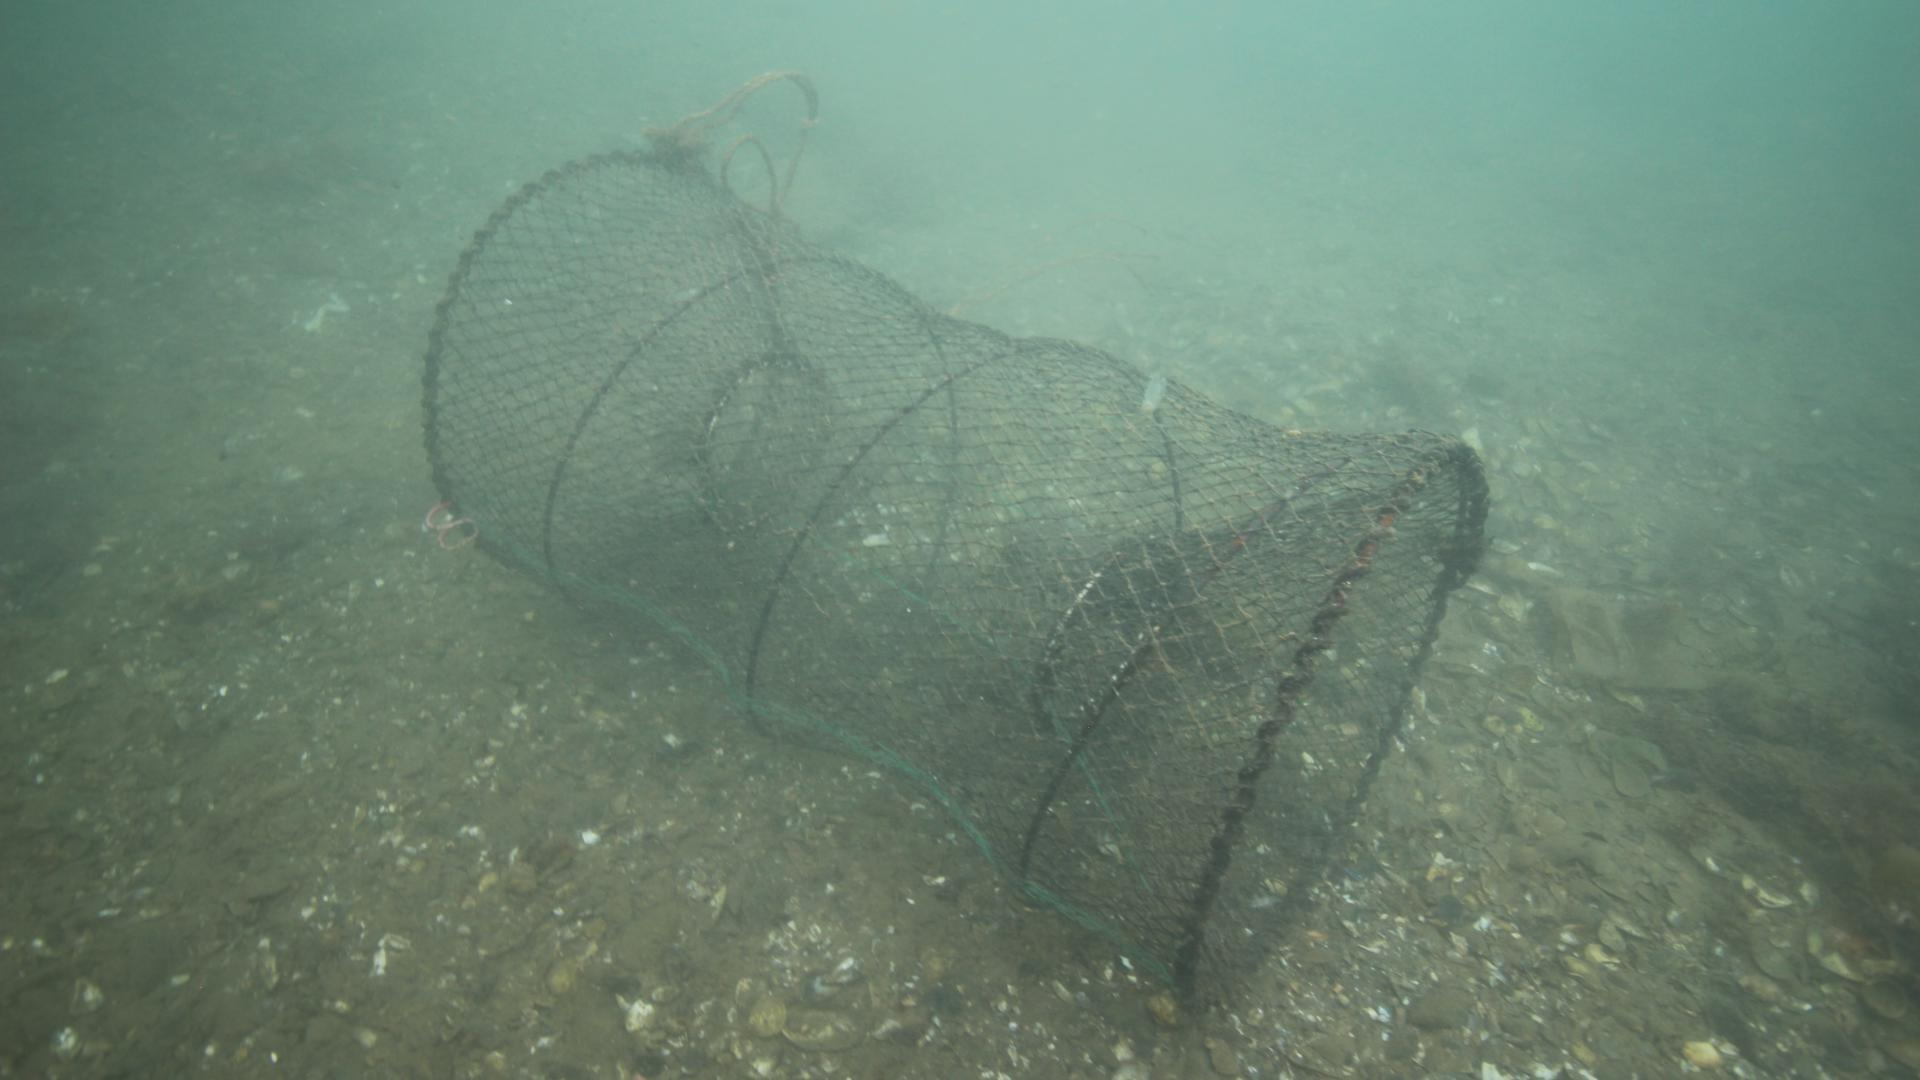bundle of ropes: (665, 69, 818, 207)
spring fish trap: (414, 144, 1490, 1021)
